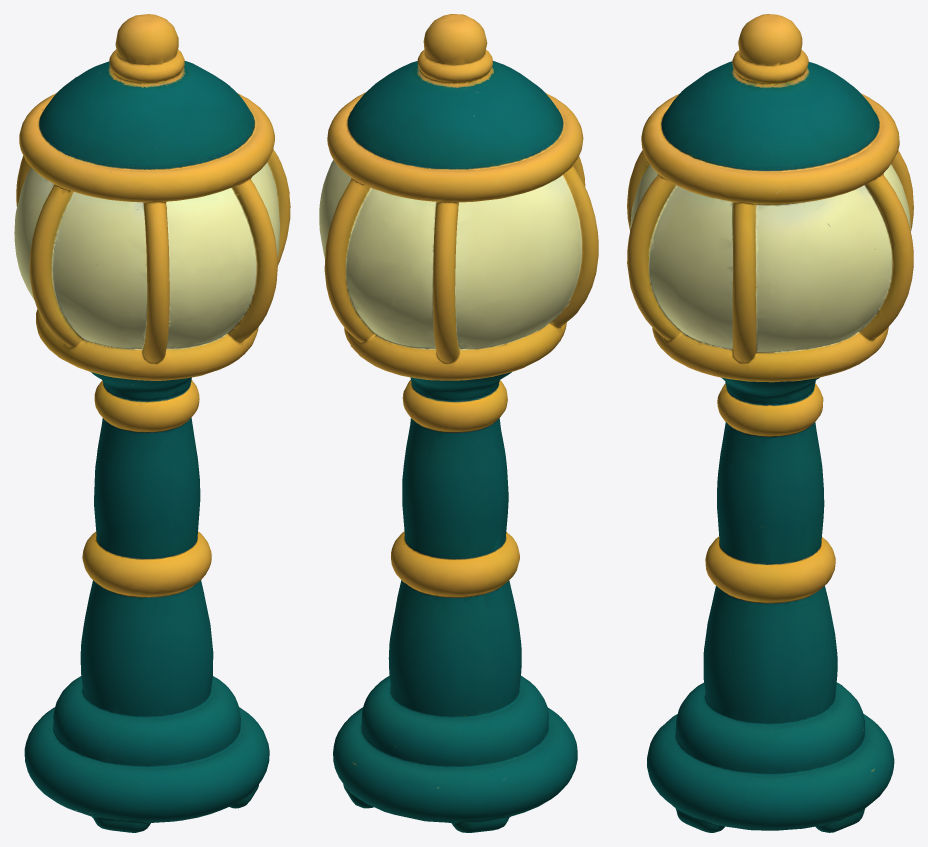
Rendered from prop_lamp.glb.
The picture shows the model from 3 angles, left to right: view 1: azimuth 30°, elevation 25°; view 2: azimuth 150°, elevation 25°; view 3: azimuth 270°, elevation 25°; orthographic projection.
Size of the model in its own units: 0.6638 by 1.9 by 0.6341.
1 material, 1 textured.
